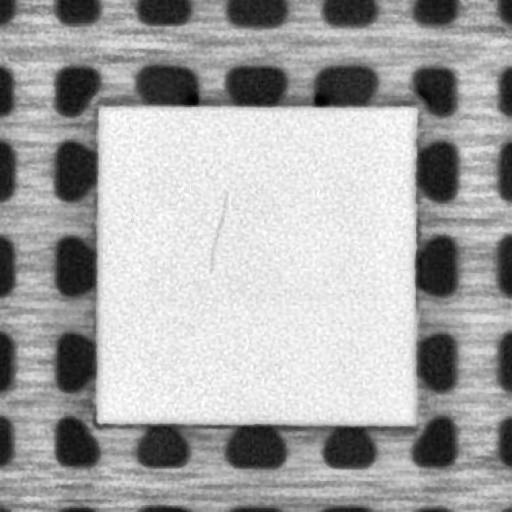DIE_CRACK: (204, 186, 229, 270)
